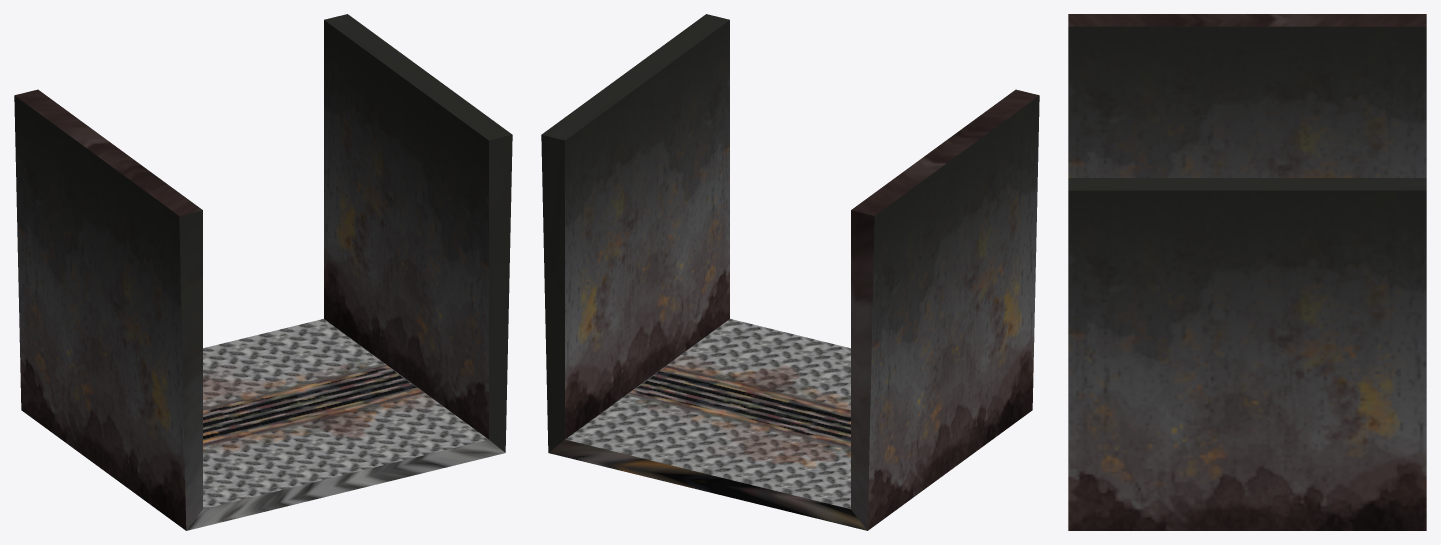
Rendered from FloorTile.003.fbx.
3 renders of one model, left to right at view 1: azimuth 30°, elevation 25°; view 2: azimuth 150°, elevation 25°; view 3: azimuth 270°, elevation 25°, orthographic. The views are drawn at different scales.
Parts seen in each view (by area): view 1: FloorTile.003; view 2: FloorTile.003; view 3: FloorTile.003.
Boxes of the visible parts, bbox=[...] form: FloorTile.003: bbox=[14, 14, 512, 530]; FloorTile.003: bbox=[541, 14, 1039, 530]; FloorTile.003: bbox=[1068, 14, 1426, 530].
Size of the model in its own units: 700 by 635 by 600.
